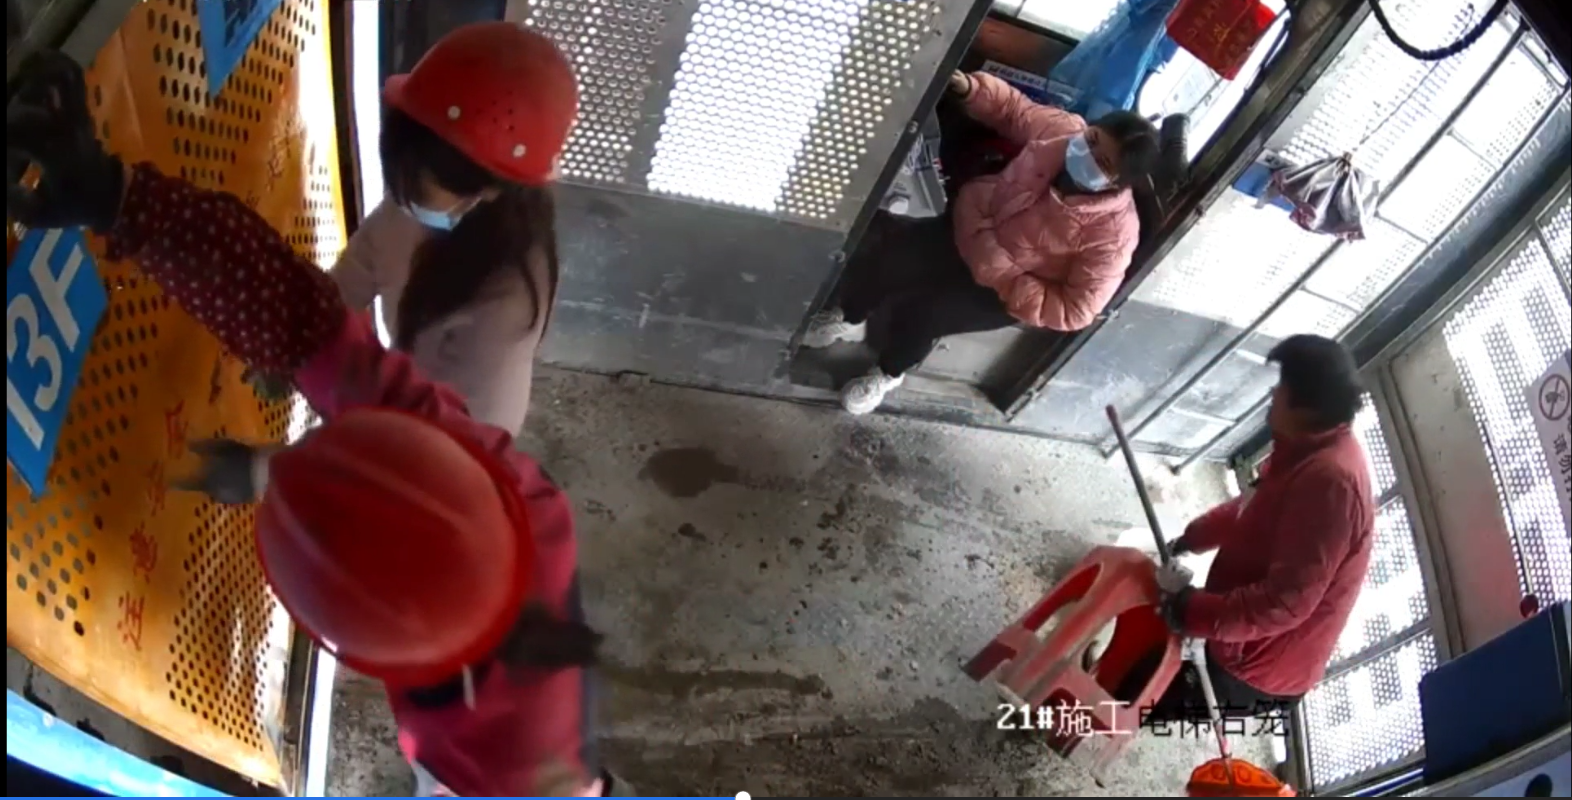person: (5, 51, 611, 795), (794, 70, 1162, 414), (313, 23, 579, 440), (1113, 333, 1375, 732)
